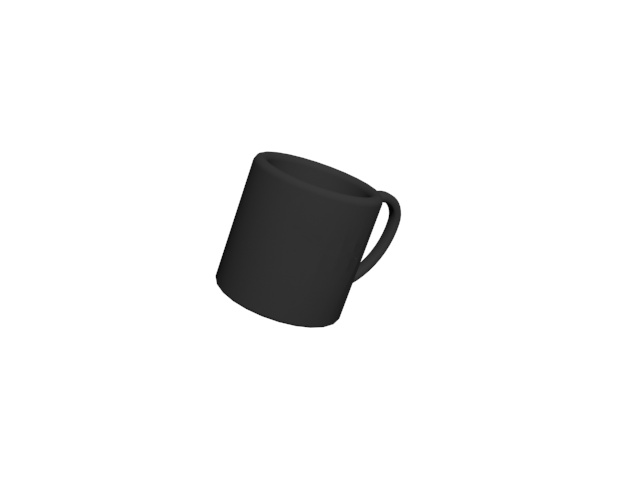mug: (209, 145, 408, 328)
